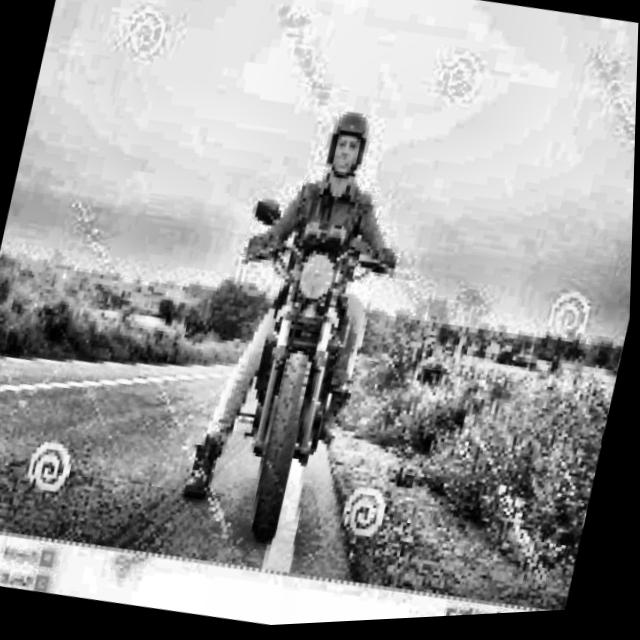motorcycle: (178, 174, 431, 572)
